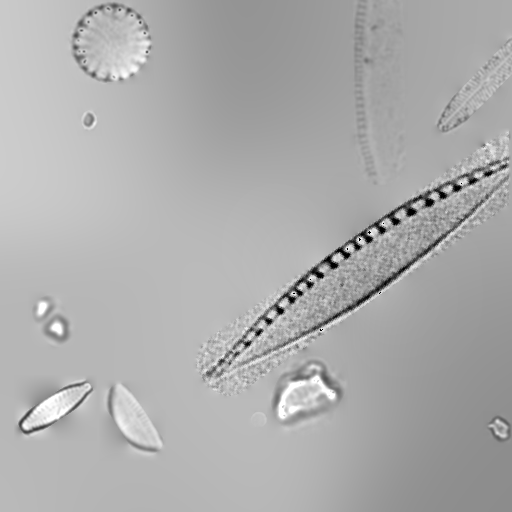CAGR: (57, 0, 161, 90)
CINV: (246, 407, 270, 431)
ECAE: (90, 372, 174, 468)
GTER: (7, 368, 103, 448)
NERI: (426, 17, 512, 149)
NIPU: (347, 0, 409, 188)
NSOC: (185, 113, 512, 413)
